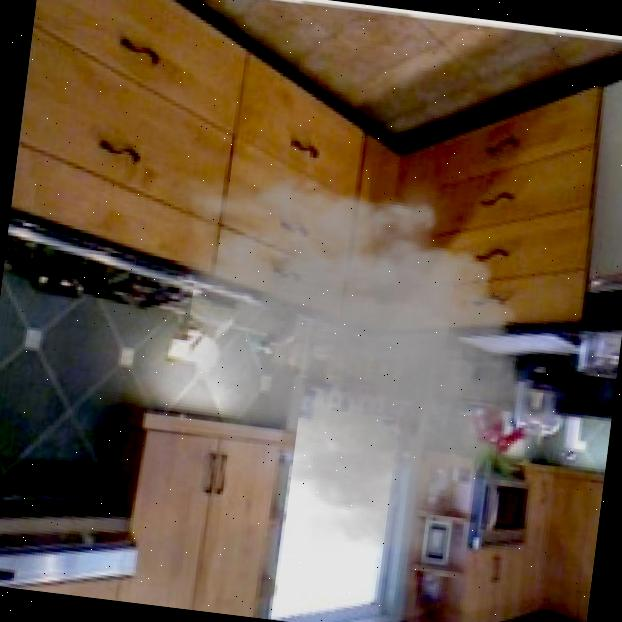smoke: (114, 142, 581, 581)
